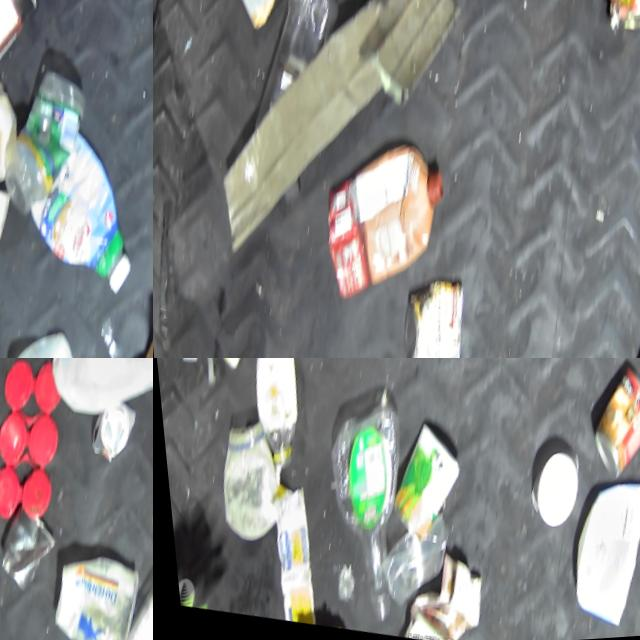can: (370, 414, 470, 552), (565, 358, 640, 504), (380, 276, 465, 358), (0, 0, 58, 102), (590, 0, 640, 51)
milk_jug: (31, 358, 153, 433)
non_white_jug: (296, 133, 461, 330)
plastic_bottle: (250, 0, 328, 104)
